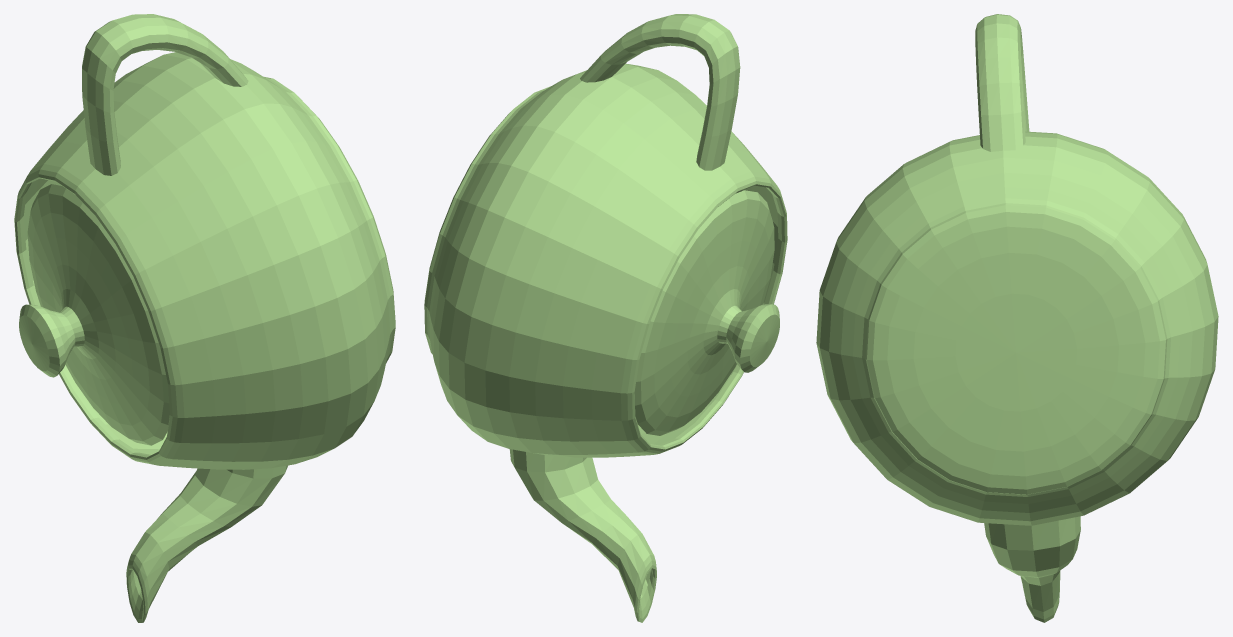
File: teapot.obj
The picture shows the model from 3 angles, left to right: view 1: azimuth 30°, elevation 25°; view 2: azimuth 150°, elevation 25°; view 3: azimuth 270°, elevation 25°; orthographic projection. The views are drawn at different scales.
Visible parts, largest first — view 1: Teapot01; view 2: Teapot01; view 3: Teapot01.
Boxes of the visible parts, box(x1,y1,x2,y2) form: Teapot01: box(14, 14, 395, 622); Teapot01: box(424, 14, 787, 622); Teapot01: box(816, 14, 1218, 622).
Bounding box in the file's own units: 33.54 × 65.25 × 40.43.
